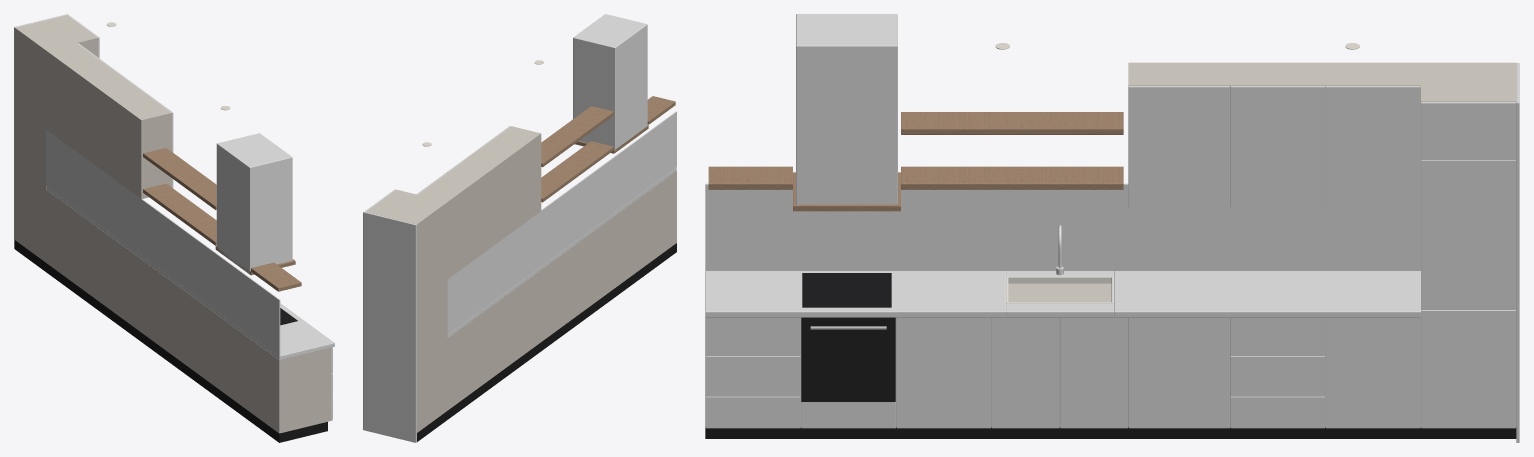
The model's file is kitchen__0_3.glb.
3 renders of one model, left to right at view 1: azimuth 30°, elevation 25°; view 2: azimuth 150°, elevation 25°; view 3: azimuth 270°, elevation 25°, orthographic. The views are drawn at different scales.
Parts seen in each view (by area): view 1: carcass, splashback, upper carcass, hood, tall carcass, open shelves, plinth, worktop; view 2: carcass, splashback, fridge end panel, upper carcass, hood, tall carcass, open shelves, plinth, worktop; view 3: fronts, splashback, upper fronts, worktop, hood, open shelves, plinth, oven, upper carcass, tall carcass, carcass, hob (+3 smaller).
Part boxes in pixels (<box>): carcass: <box>46,189,331,433</box>; splashback: <box>46,129,280,356</box>; upper carcass: <box>46,43,171,199</box>; hood: <box>216,133,292,273</box>; tall carcass: <box>15,15,98,262</box>; open shelves: <box>143,148,301,291</box>; plinth: <box>15,240,327,442</box>; worktop: <box>46,186,334,359</box>; carcass: <box>447,171,676,410</box>; splashback: <box>447,111,676,334</box>; fridge end panel: <box>363,211,416,442</box>; upper carcass: <box>418,126,541,278</box>; hood: <box>573,14,647,149</box>; tall carcass: <box>366,189,447,432</box>; open shelves: <box>541,96,675,202</box>; plinth: <box>417,243,676,441</box>; worktop: <box>447,167,676,337</box>; fronts: <box>705,102,1515,428</box>; splashback: <box>705,183,1420,270</box>; upper fronts: <box>1128,86,1420,207</box>; worktop: <box>705,271,1420,317</box>; hood: <box>796,14,897,204</box>; open shelves: <box>708,112,1123,189</box>; plinth: <box>705,427,1516,438</box>; oven: <box>801,317,895,402</box>; upper carcass: <box>1128,62,1420,206</box>; tall carcass: <box>1421,62,1516,426</box>; carcass: <box>705,283,1420,427</box>; hob: <box>802,273,891,307</box>.
Bounding box in the file's own units: 0.63 × 2.7 × 5.12.
Materials: 15 (1 with a texture image).
